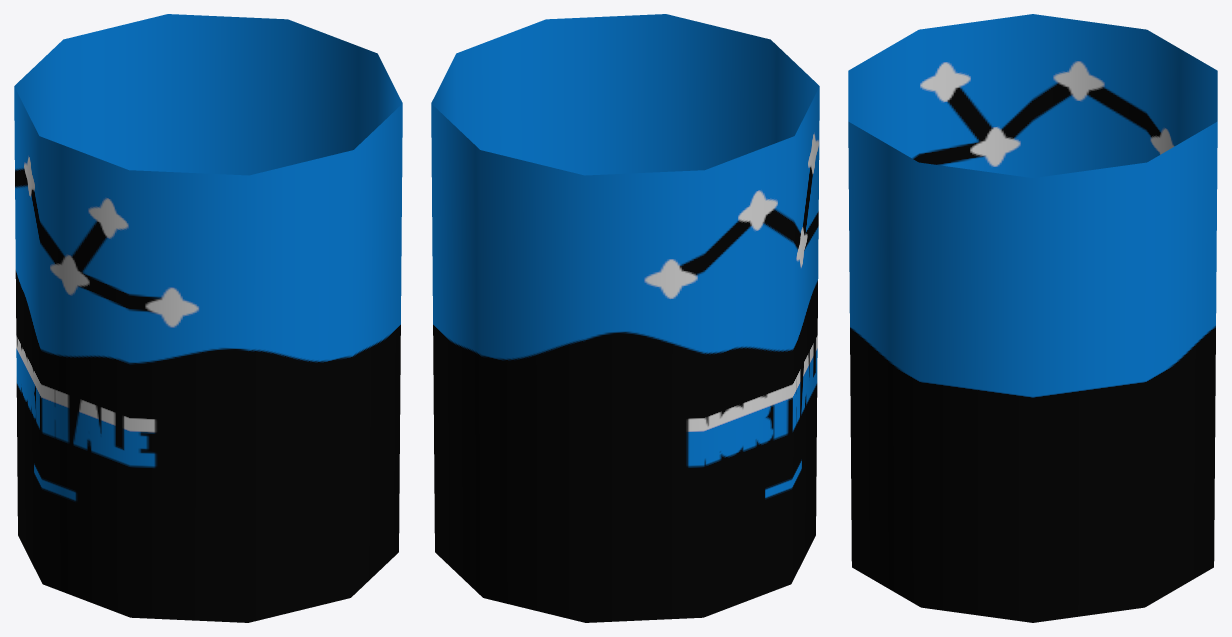
File: Bottle_Craft_Label_01.fbx
3 renders of one model, left to right at view 1: azimuth 30°, elevation 25°; view 2: azimuth 150°, elevation 25°; view 3: azimuth 270°, elevation 25°, orthographic.
Parts seen in each view (by area): view 1: Bottle_Craft_Label_01; view 2: Bottle_Craft_Label_01; view 3: Bottle_Craft_Label_01.
Boxes of the visible parts, <box> form: Bottle_Craft_Label_01: <box>14,14,402,622</box>; Bottle_Craft_Label_01: <box>431,14,819,622</box>; Bottle_Craft_Label_01: <box>848,14,1217,622</box>.
Bounding box in the file's own units: 41.08 × 52.1 × 39.07.
